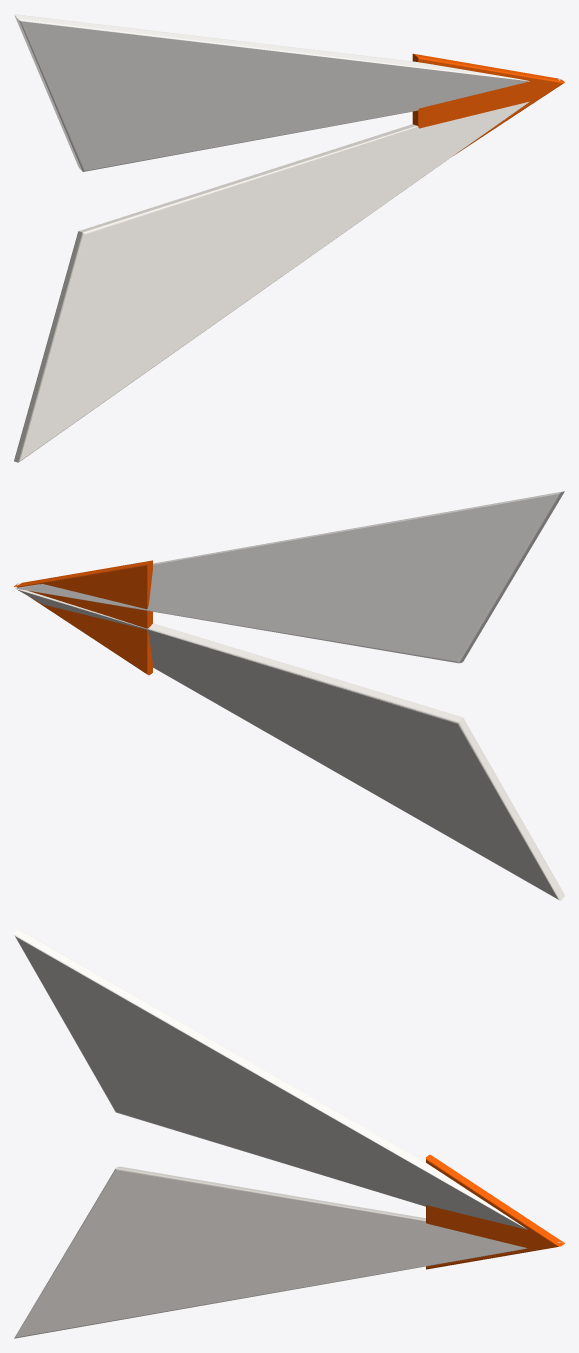
The model's file is paper-airplane.glb.
The picture shows the model from 3 angles, top to bottom: view 1: azimuth 30°, elevation 25°; view 2: azimuth 150°, elevation 25°; view 3: azimuth 330°, elevation 25°; orthographic projection. The views are drawn at different scales.
Parts seen in each view (by area): view 1: glider_right_wing, glider_left_wing, glider_orange_nose; view 2: glider_left_wing, glider_right_wing, glider_orange_nose; view 3: glider_right_wing, glider_left_wing, glider_orange_nose.
Part boxes in pixels (left/top/right/bottom): glider_right_wing: left=14, top=78, right=560, bottom=462; glider_left_wing: left=14, top=14, right=529, bottom=171; glider_orange_nose: left=412, top=53, right=564, bottom=154; glider_left_wing: left=15, top=491, right=564, bottom=663; glider_right_wing: left=15, top=583, right=564, bottom=900; glider_orange_nose: left=14, top=560, right=152, bottom=675; glider_right_wing: left=14, top=1166, right=563, bottom=1338; glider_left_wing: left=14, top=929, right=563, bottom=1246; glider_orange_nose: left=426, top=1154, right=564, bottom=1269.
Size of the model in its own units: 2.43 by 1.81 by 0.2437.
